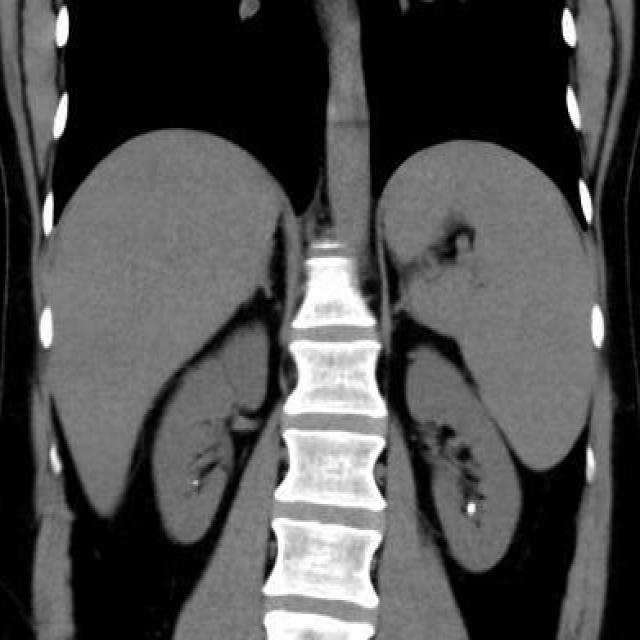Tas_Var: (466, 499, 477, 517), (190, 477, 200, 487)
